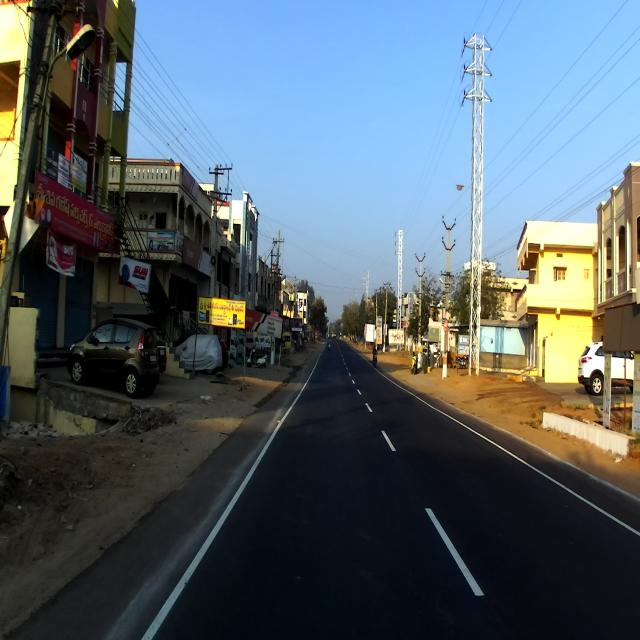car ahead at: (63, 313, 162, 395)
